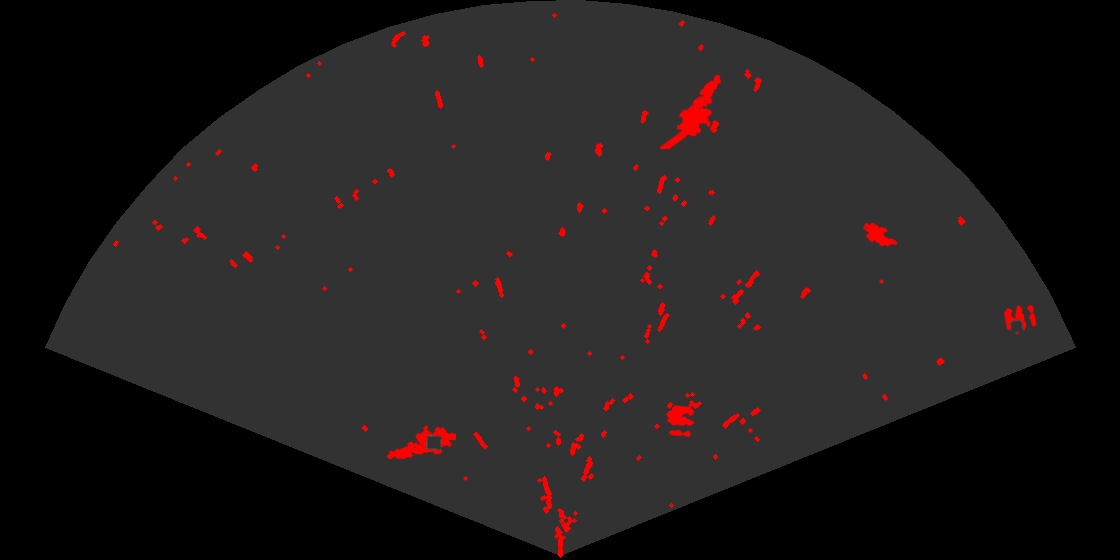AUV: (861, 221, 900, 248)
ball: (1002, 303, 1038, 336), (665, 404, 696, 438)
frogman: (660, 73, 723, 149), (385, 424, 456, 461)
